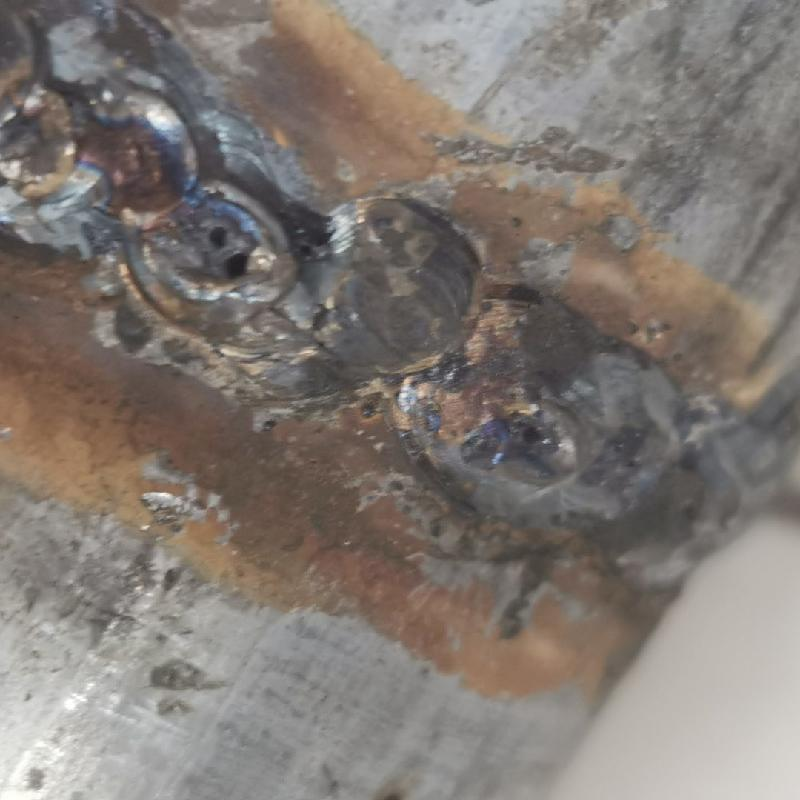Surface_pores: (201, 215, 265, 286), (504, 410, 568, 472)
crater: (5, 0, 474, 367)
wrong_size: (477, 339, 758, 560)
